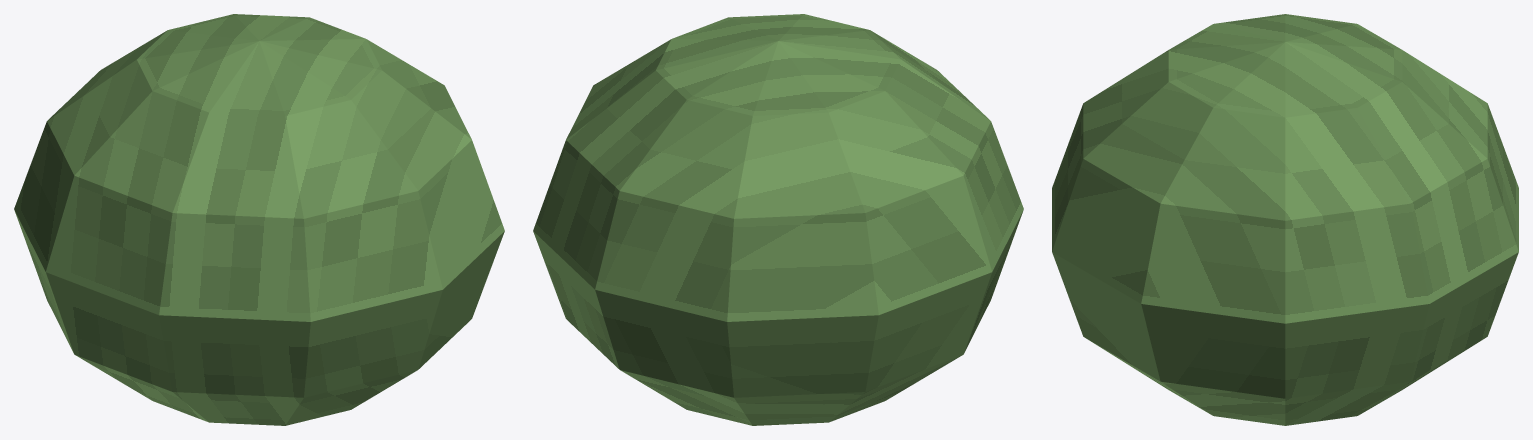
File: bush_round.glb
3 views of the same model, side by side, from view 1: azimuth 30°, elevation 25°; view 2: azimuth 150°, elevation 25°; view 3: azimuth 270°, elevation 25° (orthographic).
Size of the model in its own units: 1.5 by 1.2 by 1.43.
Materials: 1 (1 with a texture image).
